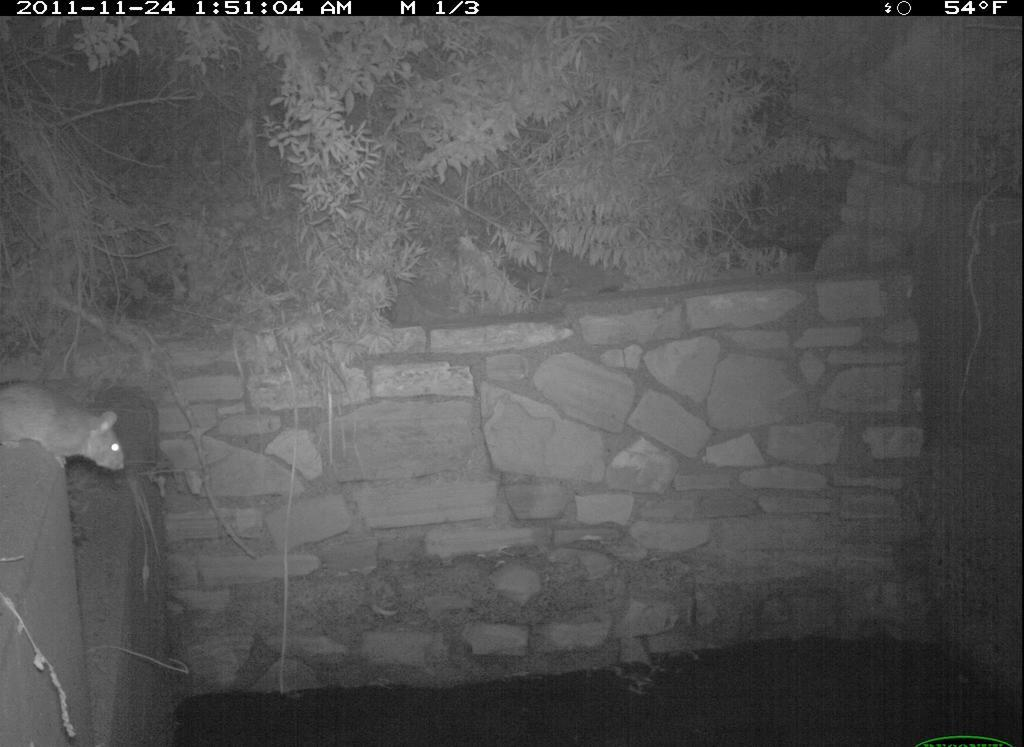rodent: (4, 377, 131, 496)
